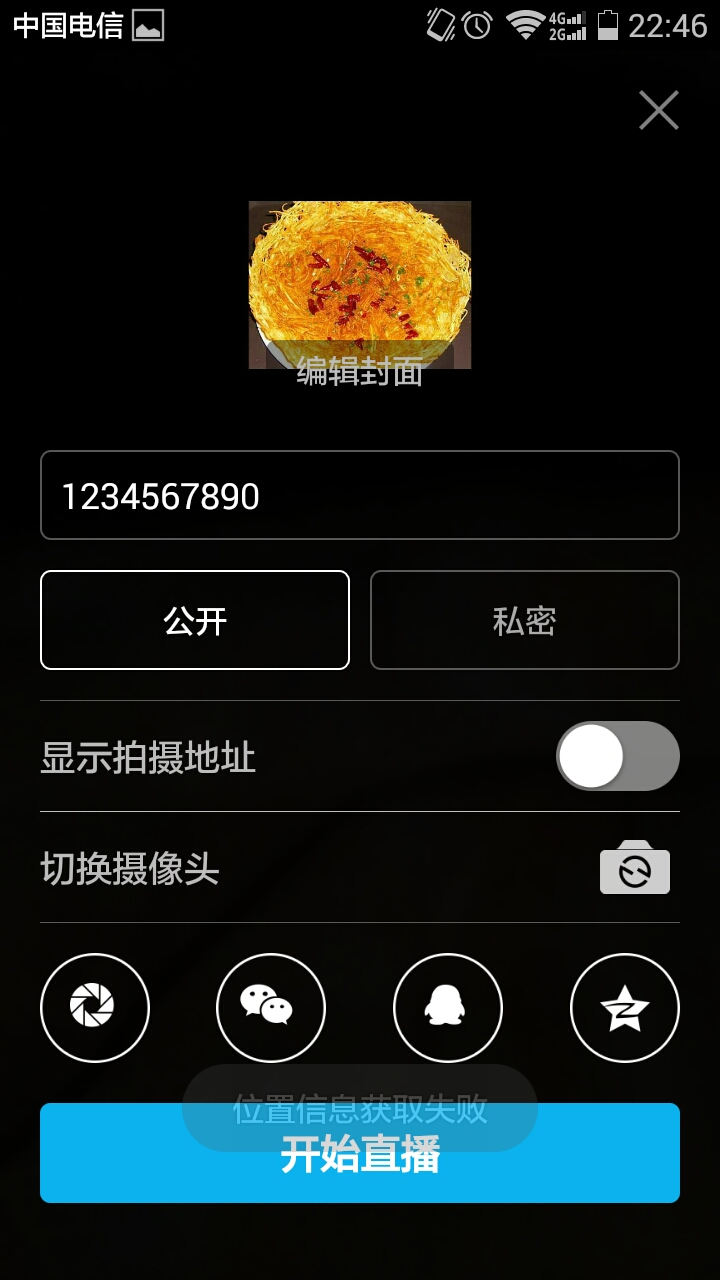imgbutton: (559, 941, 695, 1072)
textview: (35, 442, 687, 550)
